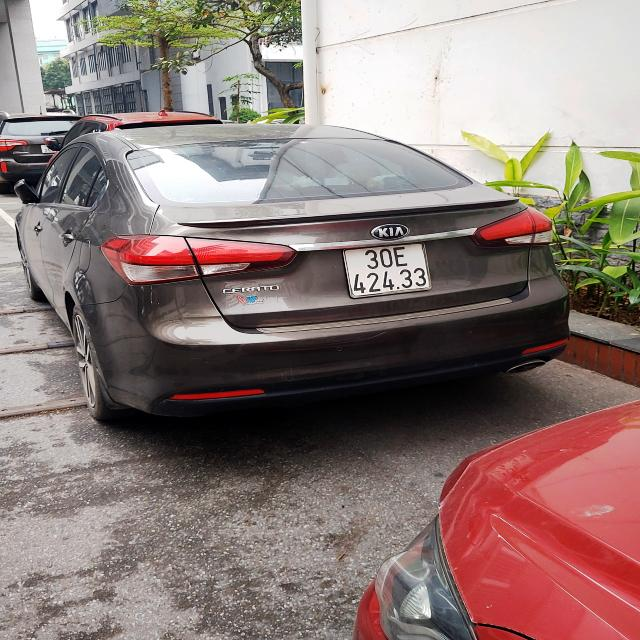license_plate: (348, 244, 433, 299)
